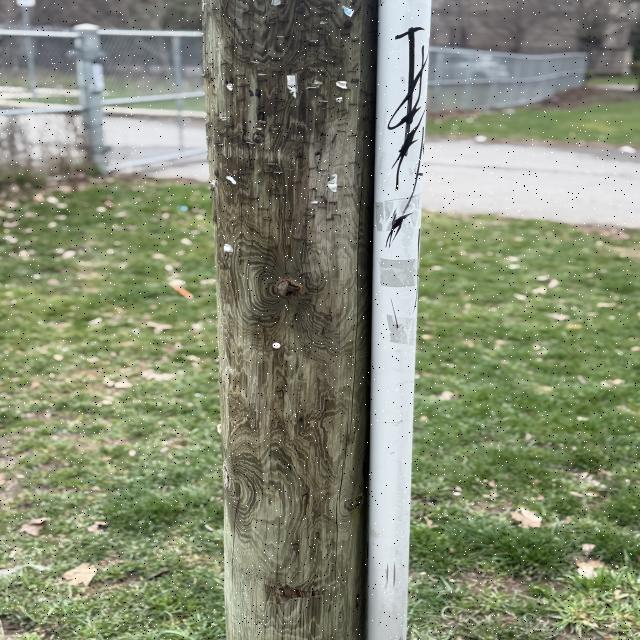Electrical Pole: (201, 3, 381, 639)
